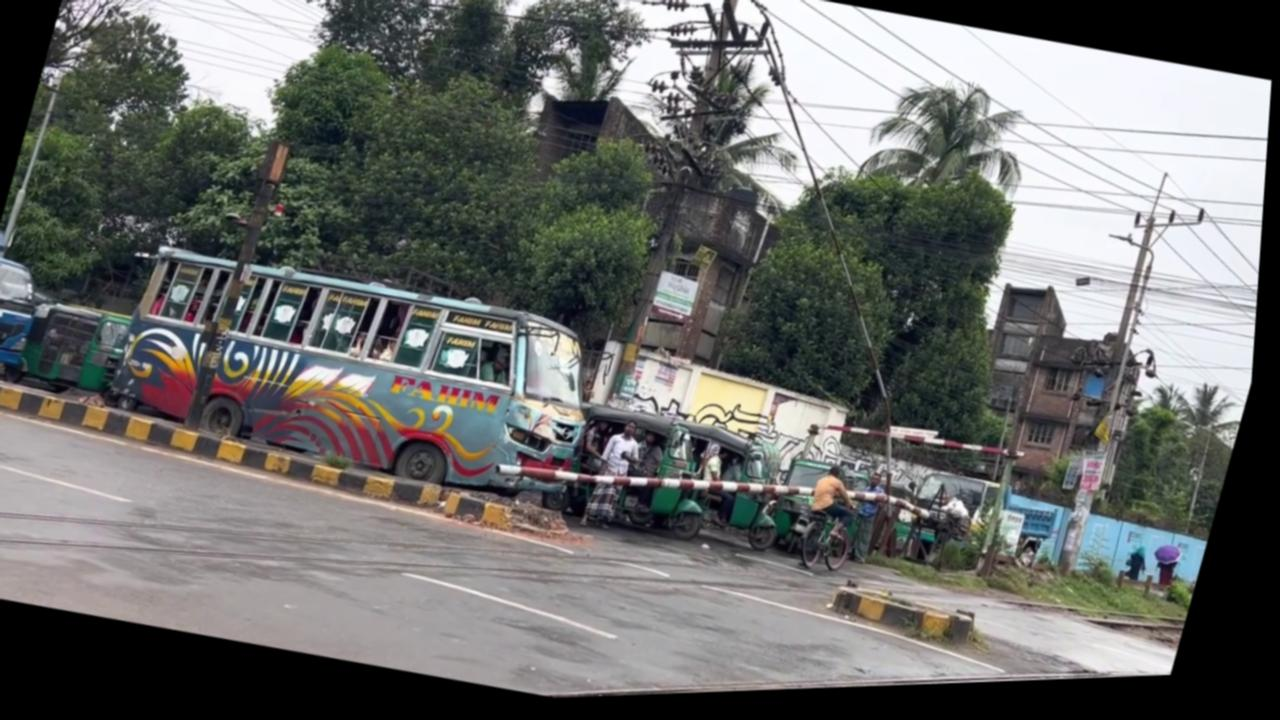Car: (0, 351, 605, 576)
Fence: (584, 419, 655, 539), (808, 467, 874, 548), (849, 477, 900, 571)
Garbage: (186, 138, 294, 435), (1, 72, 65, 256)
Motorcycle: (554, 551, 1186, 703)
Rickshaw: (94, 225, 631, 527), (14, 295, 139, 405)
